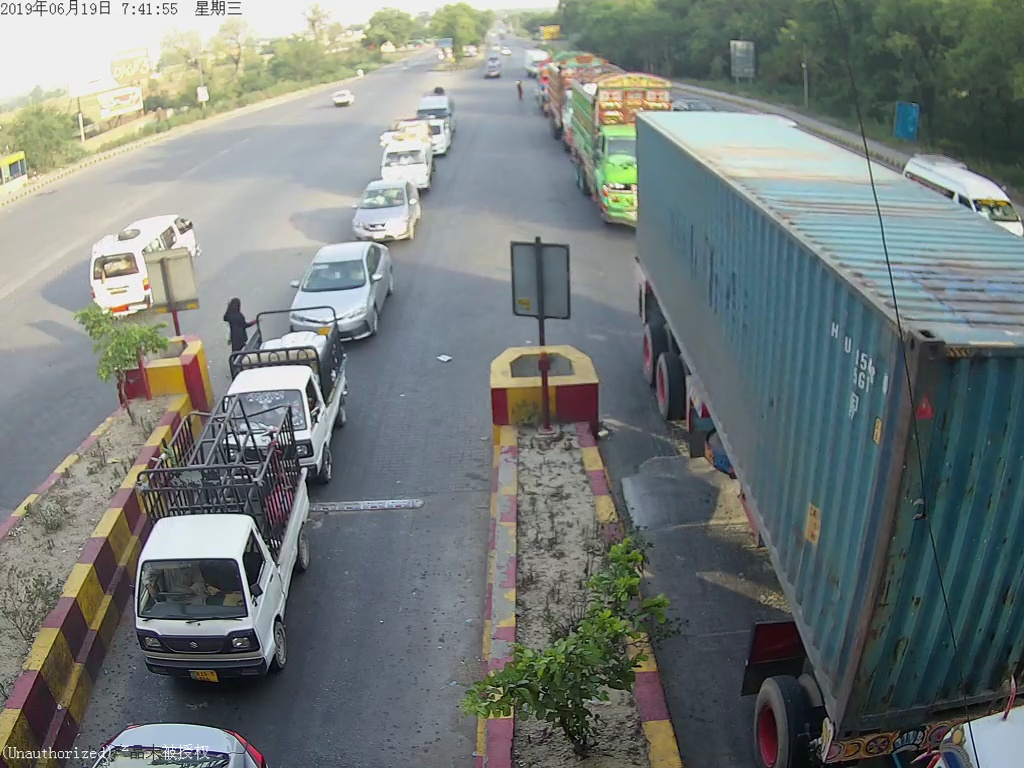Cat-1: (138, 424, 316, 678), (234, 327, 353, 454), (295, 246, 384, 324), (350, 183, 421, 246)
Cat-4: (568, 80, 639, 227)
